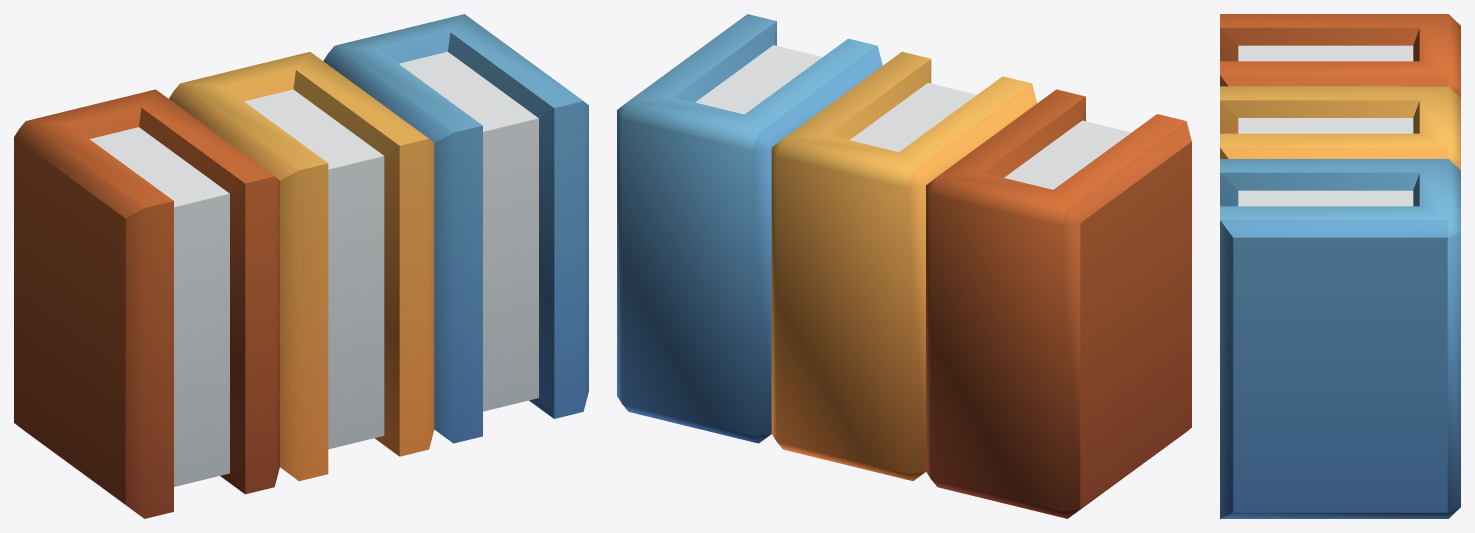
Rendered from book-set.glb.
The picture shows the model from 3 angles, left to right: view 1: azimuth 30°, elevation 25°; view 2: azimuth 150°, elevation 25°; view 3: azimuth 270°, elevation 25°; orthographic projection. The views are drawn at different scales.
Parts seen in each view (by area): view 1: book_set; view 2: book_set; view 3: book_set.
Part boxes in pixels (x1,y1,x2,y2): book_set: [14, 14, 588, 518]; book_set: [617, 14, 1191, 518]; book_set: [1220, 14, 1460, 518].
Size of the model in its own units: 0.78 by 0.5 by 0.365.
